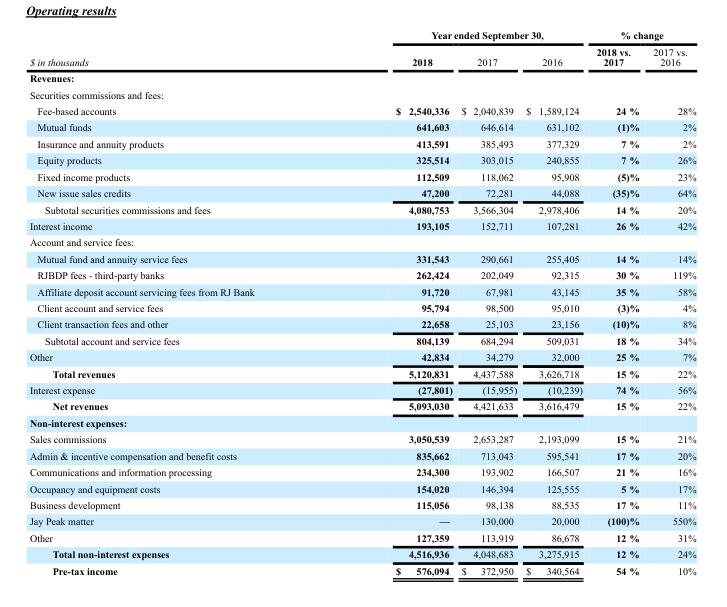table: (28, 29, 695, 575)
table column: (28, 29, 324, 575), (324, 29, 456, 575), (520, 29, 588, 575), (456, 29, 520, 575), (588, 29, 645, 575), (645, 29, 695, 575)
table column header: (28, 29, 695, 69)
table projected row header: (28, 69, 695, 86), (28, 233, 695, 250), (28, 86, 695, 102), (28, 414, 695, 430)
table row: (28, 43, 695, 69), (28, 69, 695, 86), (28, 118, 695, 135), (28, 151, 695, 168), (28, 200, 695, 217), (28, 233, 695, 250), (28, 282, 695, 299), (28, 315, 695, 332), (28, 348, 695, 365), (28, 397, 695, 414), (28, 430, 695, 447), (28, 479, 695, 496), (28, 512, 695, 529), (28, 545, 695, 562), (28, 86, 695, 102), (28, 102, 695, 118), (28, 135, 695, 151), (28, 168, 695, 184), (28, 184, 695, 200), (28, 217, 695, 233), (28, 250, 695, 266), (28, 266, 695, 282), (28, 299, 695, 315), (28, 332, 695, 348), (28, 365, 695, 381), (28, 381, 695, 397), (28, 414, 695, 430), (28, 447, 695, 463), (28, 463, 695, 479), (28, 496, 695, 512), (28, 529, 695, 545), (28, 29, 695, 43), (28, 562, 695, 575)
table spanning cell: (28, 29, 324, 69), (324, 29, 588, 43), (588, 29, 695, 43)
